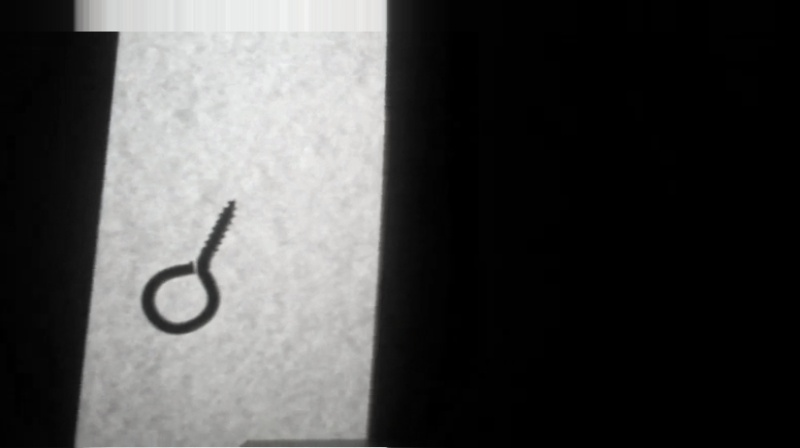O001: (135, 197, 239, 338)
